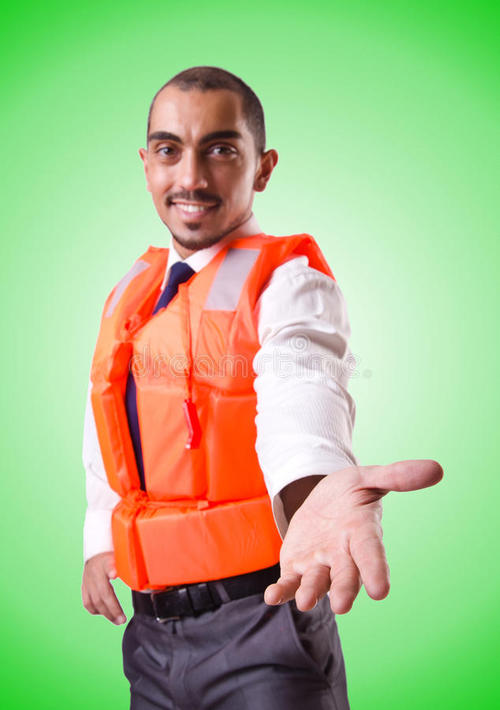reflective_clothes: (67, 206, 359, 607)
